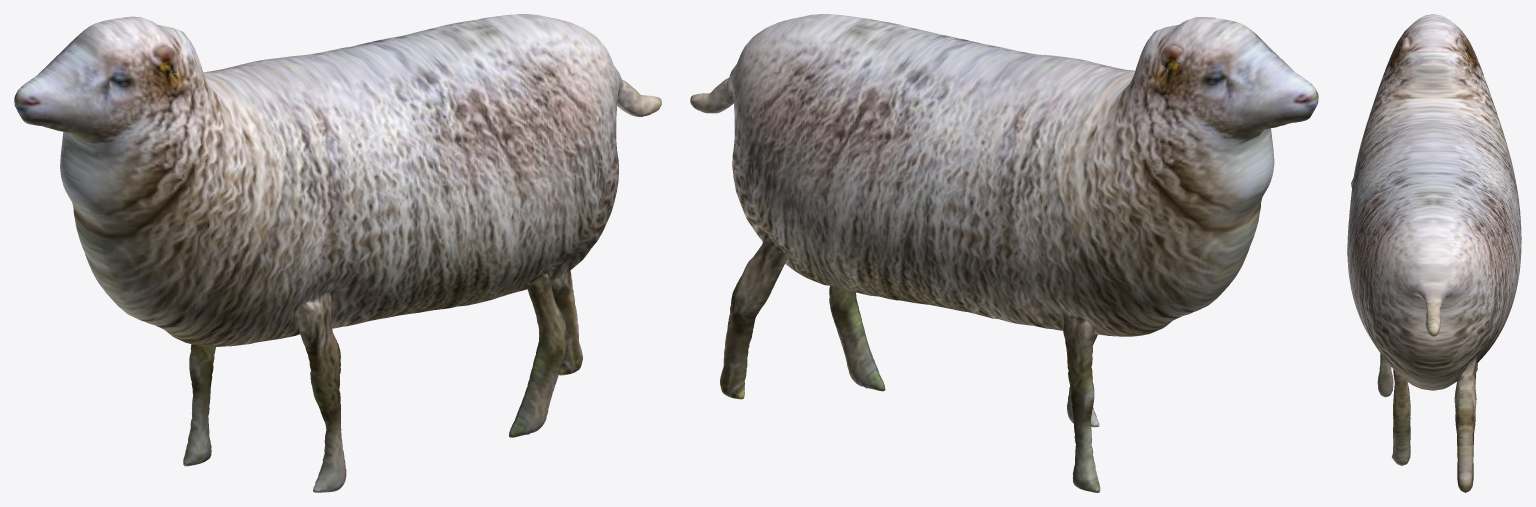
Rendered from brebis.glb.
3 renders of one model, left to right at view 1: azimuth 30°, elevation 25°; view 2: azimuth 150°, elevation 25°; view 3: azimuth 270°, elevation 25°, orthographic. The views are drawn at different scales.
Visible parts, largest first — view 1: mesh_0; view 2: mesh_0; view 3: mesh_0.
Boxes of the visible parts, x1=… form: mesh_0: x1=14, y1=14, x2=661, y2=492; mesh_0: x1=690, y1=14, x2=1318, y2=492; mesh_0: x1=1347, y1=14, x2=1521, y2=492.
Size of the model in its own units: 7.04 by 5.08 by 2.49.
1 material, 1 textured.
